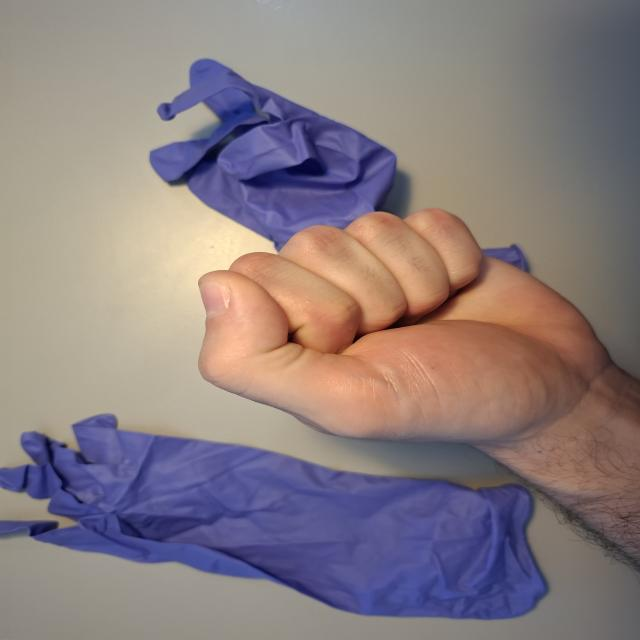glove_off: (193, 203, 612, 448)
